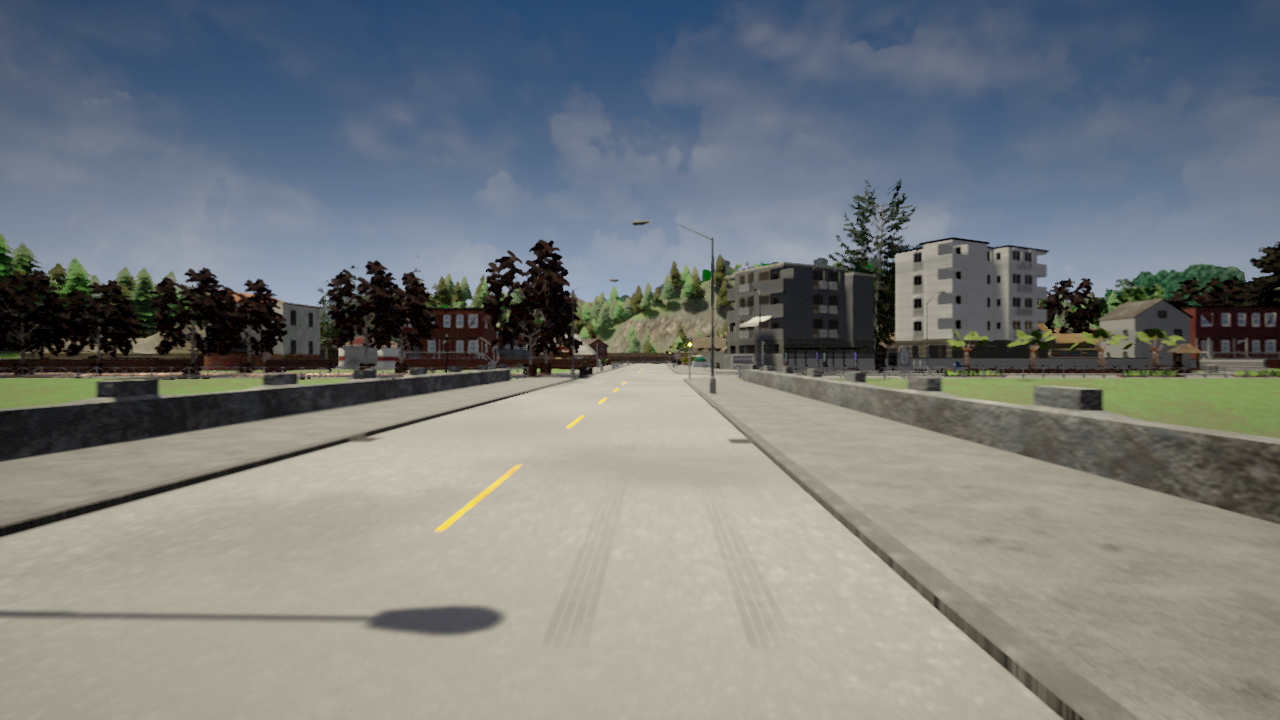yellow: (686, 338, 693, 352)
